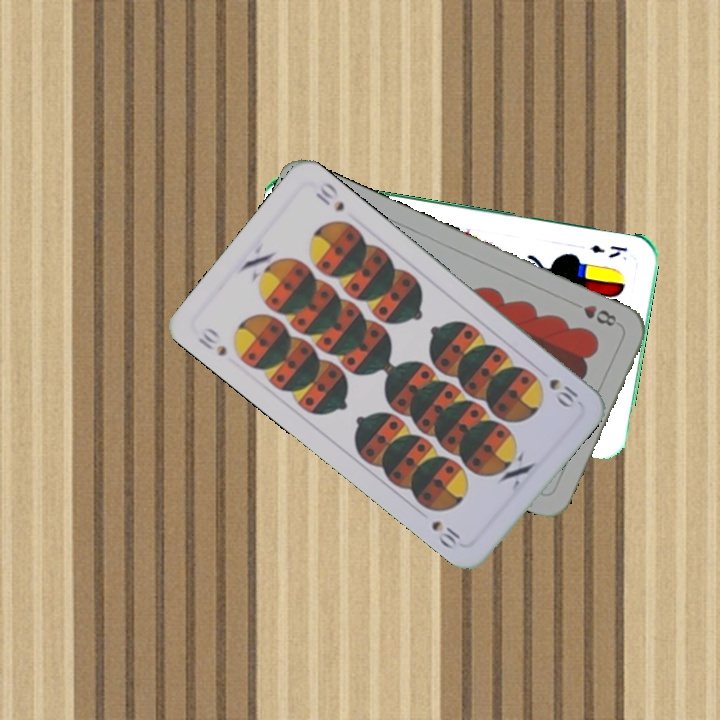EK: (586, 241, 629, 261)
H8: (567, 297, 619, 329)
S10: (545, 374, 581, 410), (193, 323, 229, 359)
